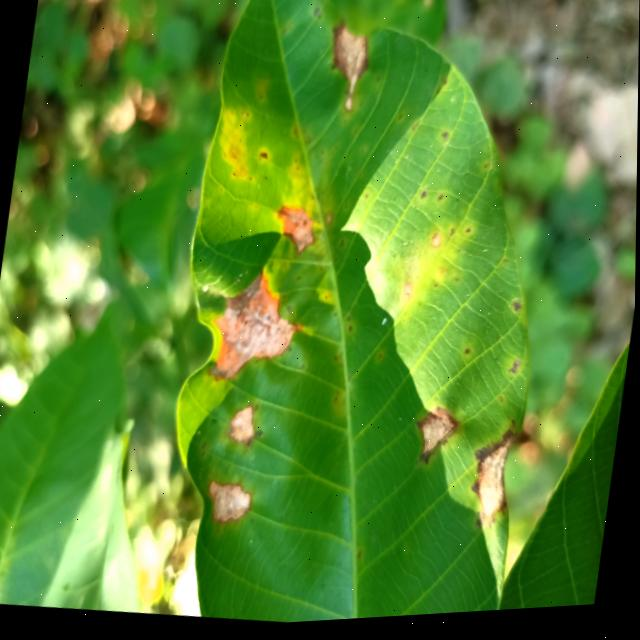Leaf-Blight: (205, 267, 304, 392), (323, 26, 372, 116), (474, 442, 512, 524), (204, 479, 253, 528), (273, 207, 317, 257), (419, 417, 454, 461), (227, 405, 258, 447)
